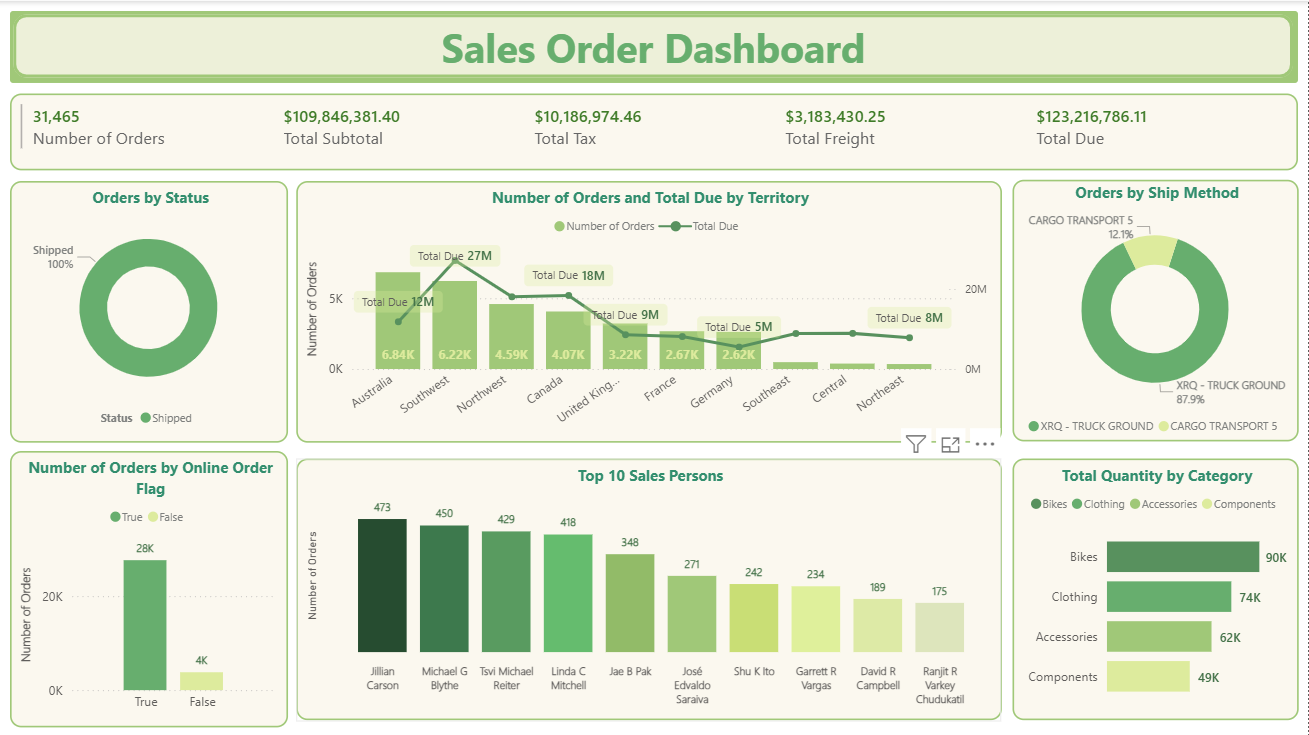

What the dashboard file says about the page in this screenshot:
{"tool":"powerbi","page":{"name":"Overview","canvas":[1280,720],"ordinal":0},"visuals":[{"type":"multiRowCard","fields":{"Values":["Dax Measures.Number of Orders","Dax Measures.Total Subtotal","Dax Measures.Total Tax","Dax Measures.Total Freight","Dax Measures.Total Due"]},"box":[10,90,1260,75],"z":0},{"type":"donutChart","title":"Orders by Ship Method","fields":{"Y":["Dax Measures.Number of Orders"],"Category":["ShipMethod.ShipMethod"]},"box":[990,175,280,256],"z":1000},{"type":"donutChart","title":"Orders by Status","fields":{"Y":["Dax Measures.Number of Orders"],"Series":["Statuses.Status"],"Category":["Statuses.Status"]},"box":[10,176,272,256],"z":2000},{"type":"barChart","title":"Total Quantity by Category","fields":{"Category":["Product.Product Hierarchy.Category","Product.Product Hierarchy.Subcategory","Product.Product Hierarchy.Product"],"Y":["Dax Measures.Total Quantity"],"Series":["Product.Product Hierarchy.Category"]},"box":[990,448,280,256],"z":3000},{"type":"columnChart","title":"Number of Orders by Online Order Flag","fields":{"Category":["OrderDetails.OnlineOrderFlag"],"Y":["Dax Measures.Number of Orders"],"Series":["OrderDetails.OnlineOrderFlag"]},"box":[10,440,272,270],"z":4000},{"type":"lineStackedColumnComboChart","fields":{"Y":["Dax Measures.Number of Orders"],"Category":["Territory.Territory"],"Y2":["Dax Measures.Total Due"]},"box":[290,176,690,256],"z":5000},{"type":"columnChart","title":"Top 10 Sales Persons","fields":{"Category":["DimSalesPerson.Full Name"],"Y":["Dax Measures.Number of Orders"],"Series":["SalesPerson.FirstName"]},"box":[290,448,690,256],"z":6000},{"type":"shape","box":[10,10,1260,70],"z":7000}]}

Visuals, with their boxes in screenshot pixels (x1, y1, x2, y2), scaled from the page's 1280x720 canvas onto the 1309x735 screenshot:
multiRowCard - Dax Measures.Number of Orders x Dax Measures.Total Subtotal: rect(10, 92, 1299, 168)
"Orders by Ship Method" donutChart: rect(1012, 179, 1299, 440)
"Orders by Status" donutChart: rect(10, 180, 288, 441)
"Total Quantity by Category" barChart: rect(1012, 457, 1299, 719)
"Number of Orders by Online Order Flag" columnChart: rect(10, 449, 288, 725)
lineStackedColumnComboChart - Dax Measures.Number of Orders x Territory.Territory: rect(297, 180, 1002, 441)
"Top 10 Sales Persons" columnChart: rect(297, 457, 1002, 719)
shape: rect(10, 10, 1299, 82)
